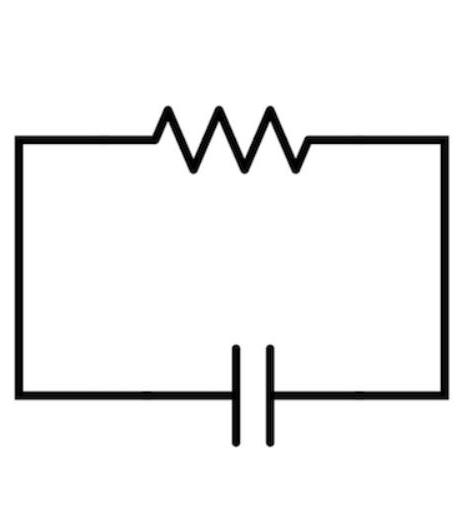resistor: (136, 86, 341, 182)
